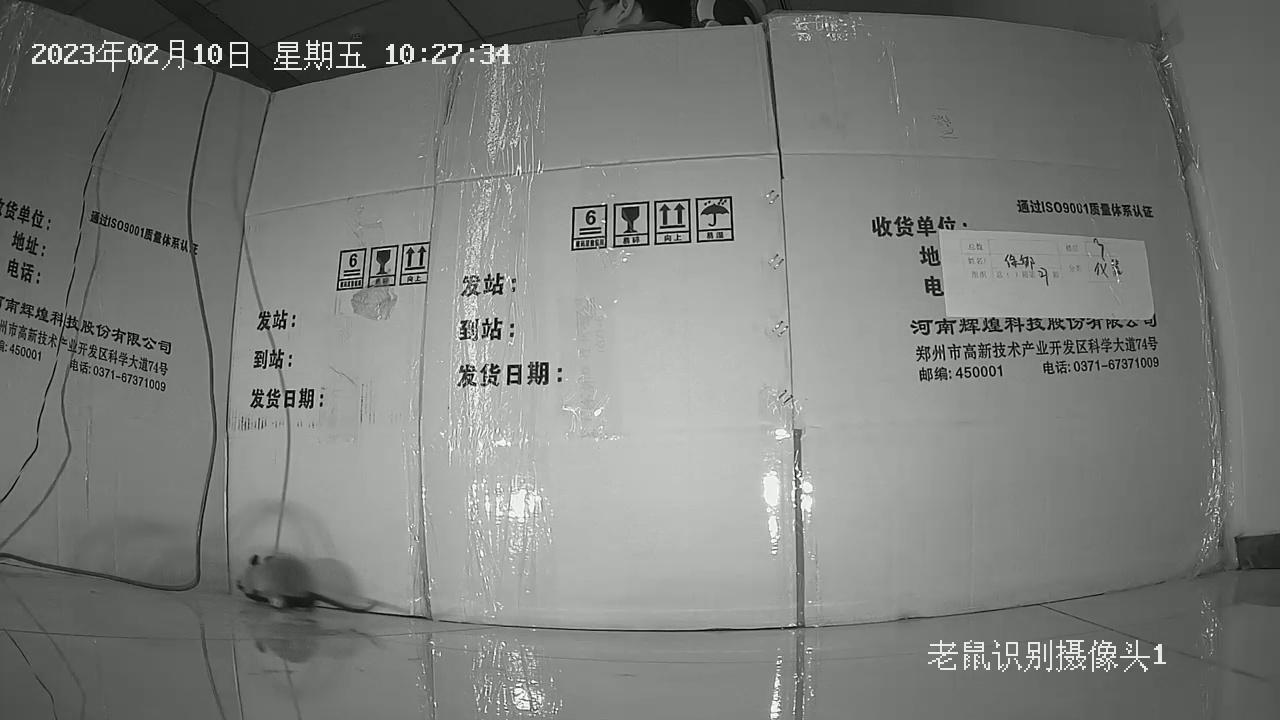rat: (238, 555, 317, 611)
